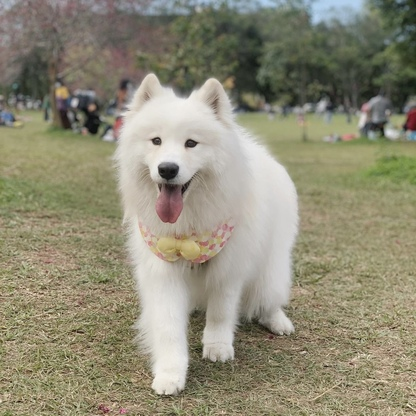samoyed: (108, 66, 306, 402)
